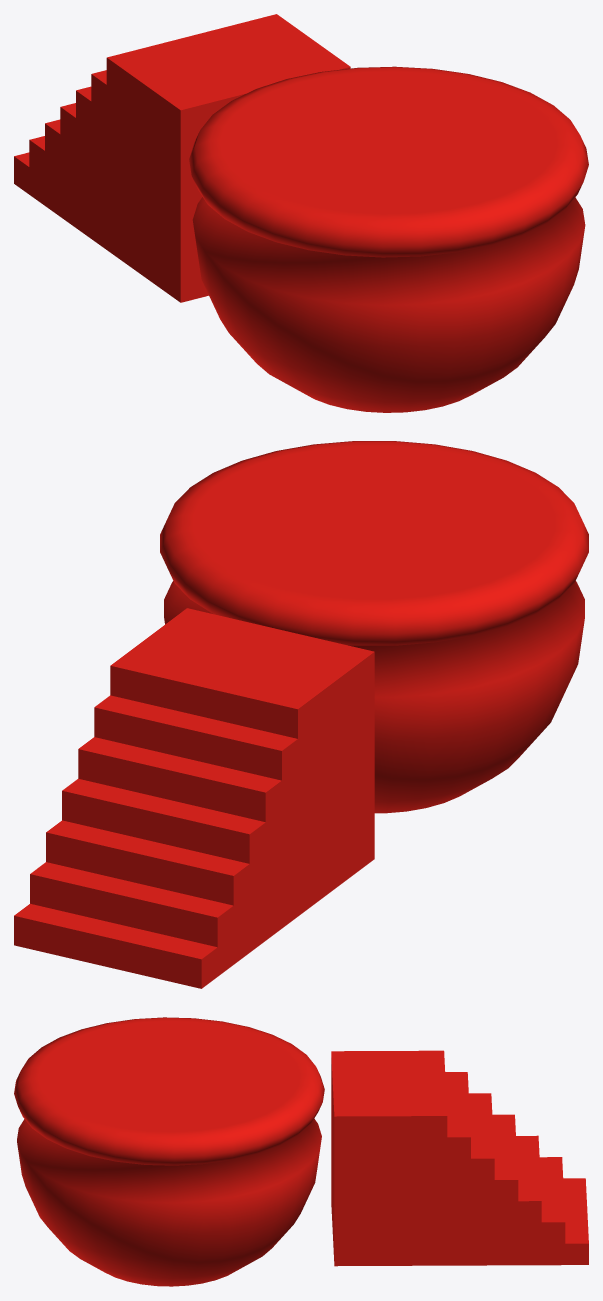
Rendered from kotol.fbx.
3 renders of one model, top to bottom at view 1: azimuth 30°, elevation 25°; view 2: azimuth 150°, elevation 25°; view 3: azimuth 270°, elevation 25°, orthographic. The views are drawn at different scales.
Parts seen in each view (by area): view 1: Circle.001; view 2: Circle.001; view 3: Circle.001.
Boxes of the visible parts, box(x1,y1,x2,y2) form: Circle.001: box(14, 14, 588, 412); Circle.001: box(14, 441, 588, 988); Circle.001: box(14, 1017, 588, 1286).
Size of the model in its own units: 419 by 289 by 775.
